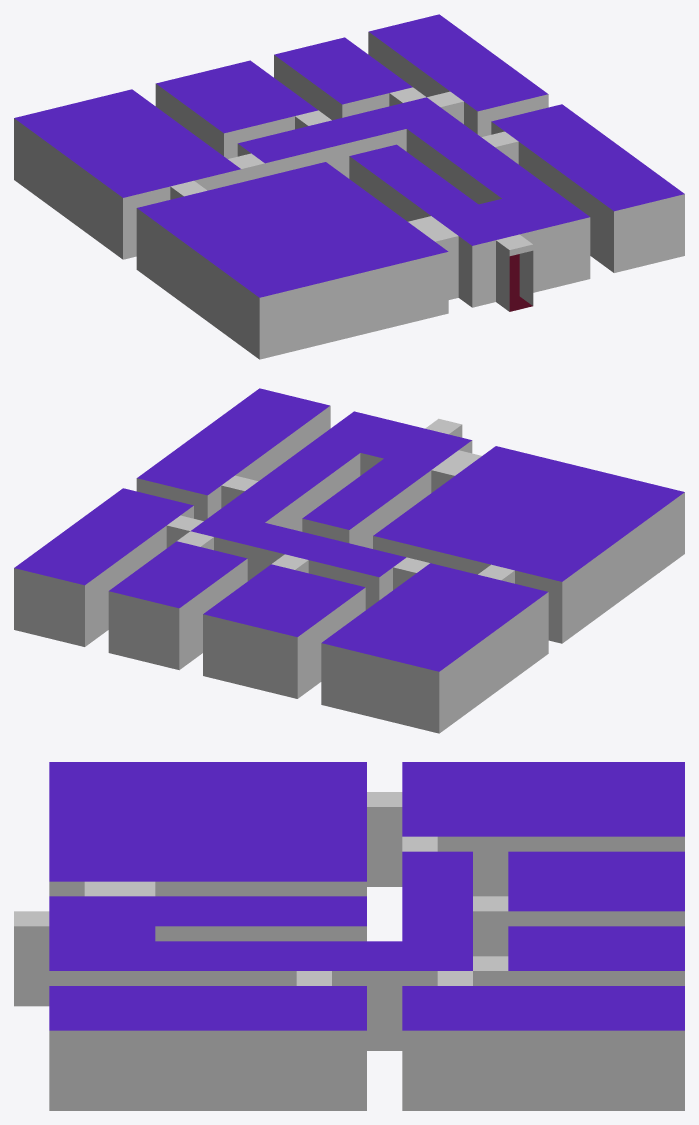
Rendered from floor_1st.fbx.
The picture shows the model from 3 angles, top to bottom: view 1: azimuth 30°, elevation 25°; view 2: azimuth 150°, elevation 25°; view 3: azimuth 270°, elevation 25°; orthographic projection. The views are drawn at different scales.
Parts seen in each view (by area): view 1: Plane; view 2: Plane; view 3: Plane.
Part boxes in pixels (x1,y1,x2,y2): Plane: [14, 14, 684, 359]; Plane: [14, 388, 684, 733]; Plane: [14, 762, 684, 1110].
Bounding box in the file's own units: 3600 × 501 × 3800.
